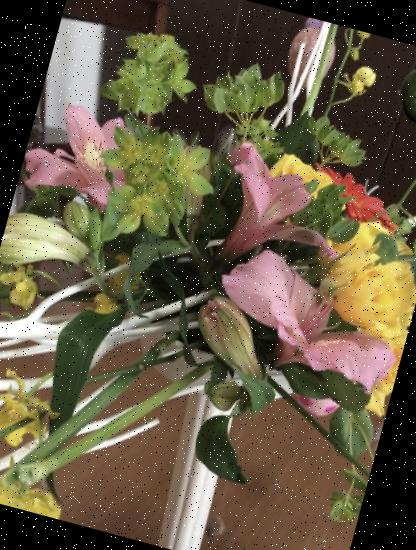Avocado: (385, 59, 416, 131)
